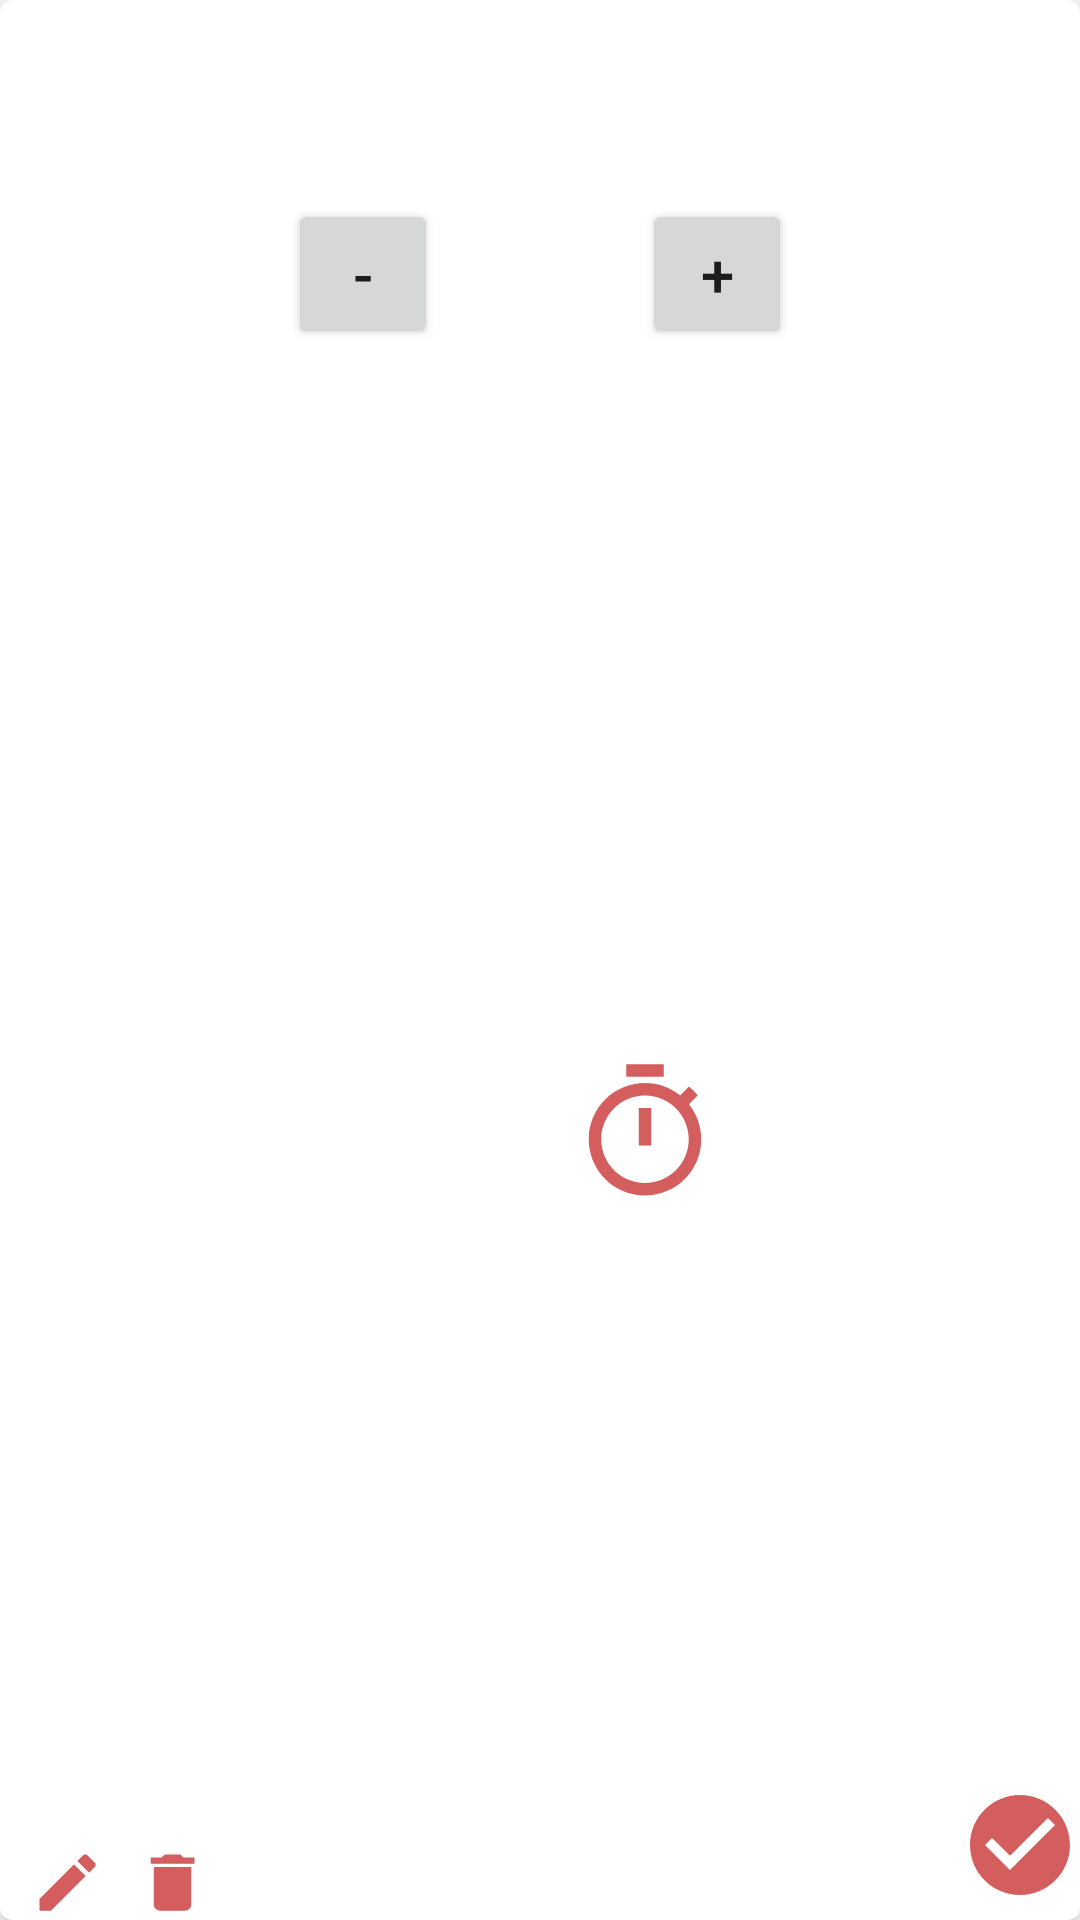

Screen size 1080*1920. Icon name, then its box in pixels as (x1, y1, x2, y2):
check circle: (970, 1795, 1070, 1895)
delete: (150, 1854, 195, 1911)
edit: (39, 1854, 96, 1911)
timer: (588, 1064, 702, 1196)
